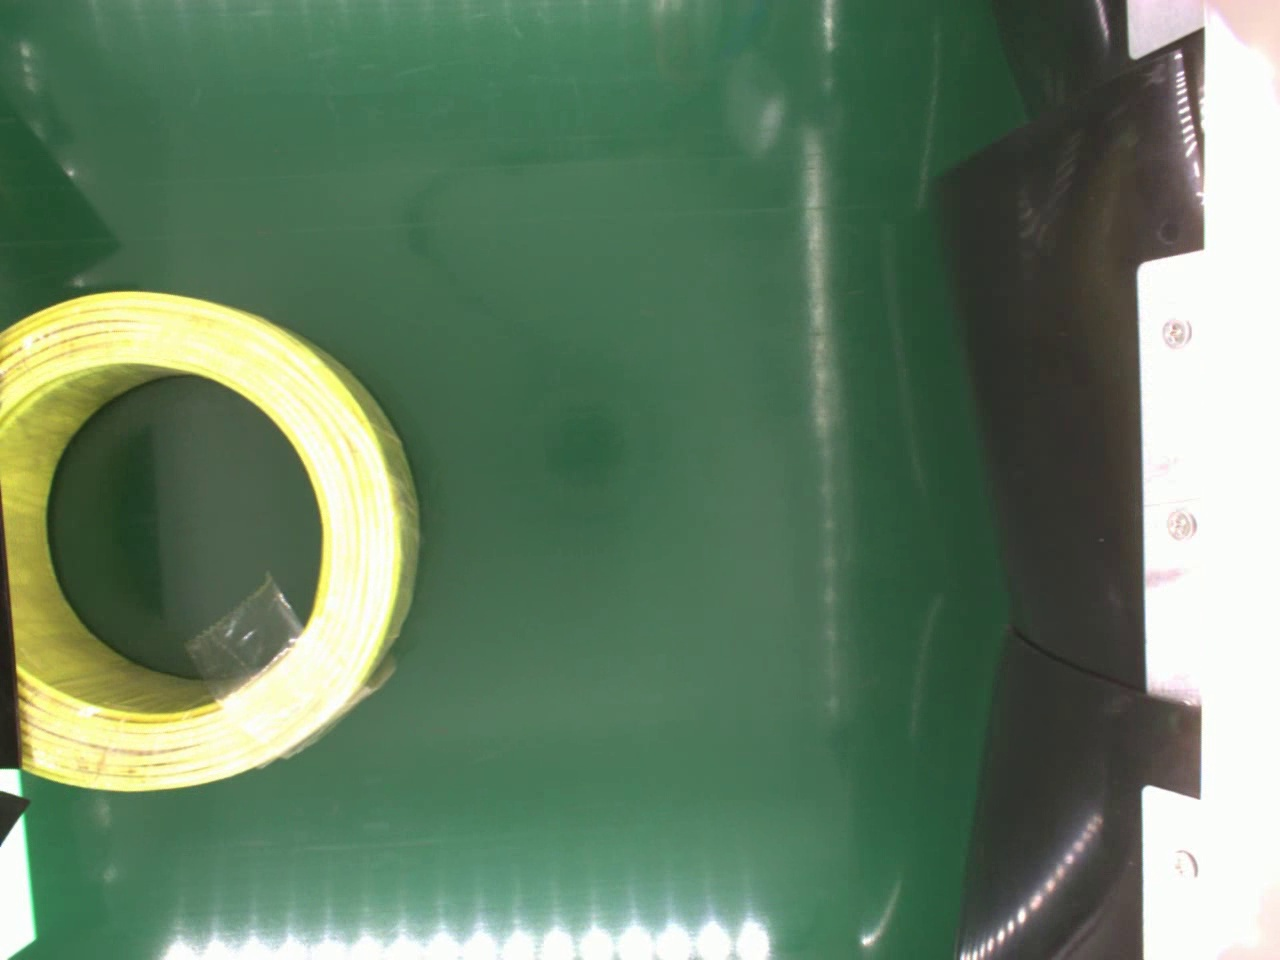yellow: (0, 287, 422, 794)
